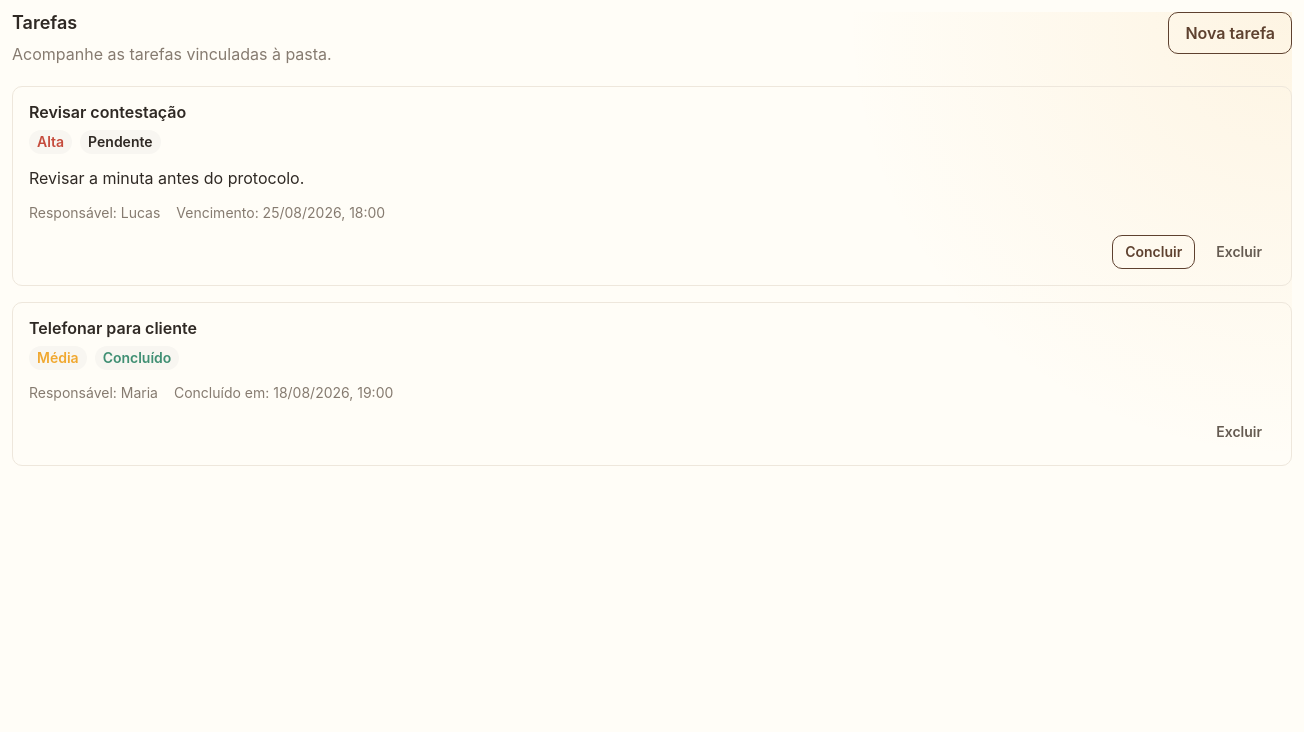
Test: FolderTasks › exibe erro quando conclusão da tarefa falha
The width and height of the screenshot is (1304, 732).
Click the button "Concluir". click: click(1154, 252)
box: [1112,235,1195,269]
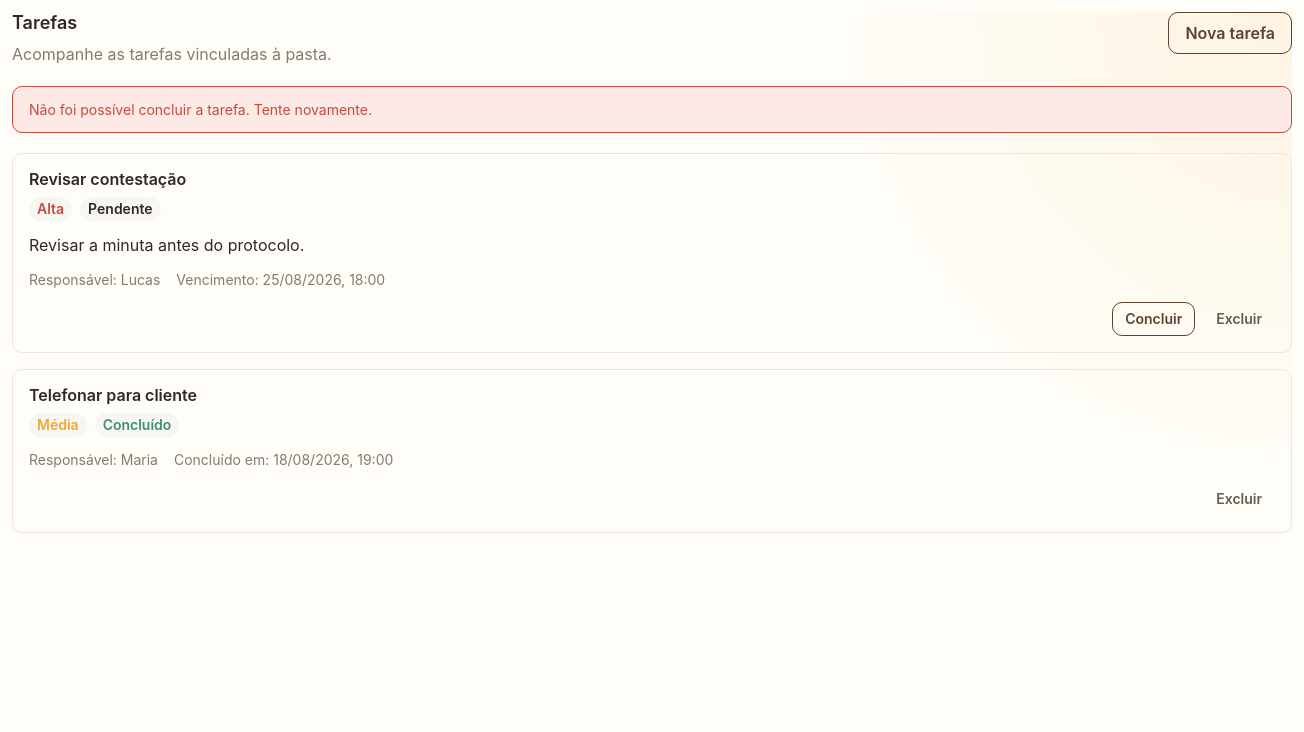
Now the text "Não foi possível concluir a tarefa. Tente novamente." is shown, box [12,86,1292,133]
